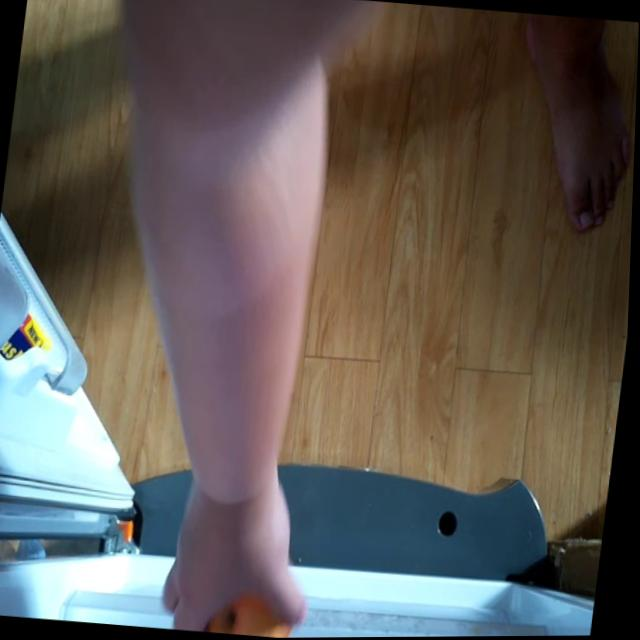apple: (208, 585, 296, 639)
